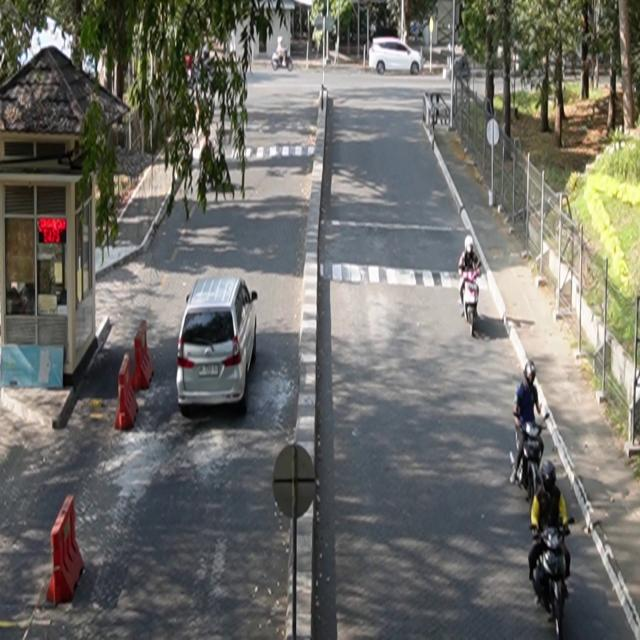car: (177, 276, 259, 417), (370, 37, 427, 76)
